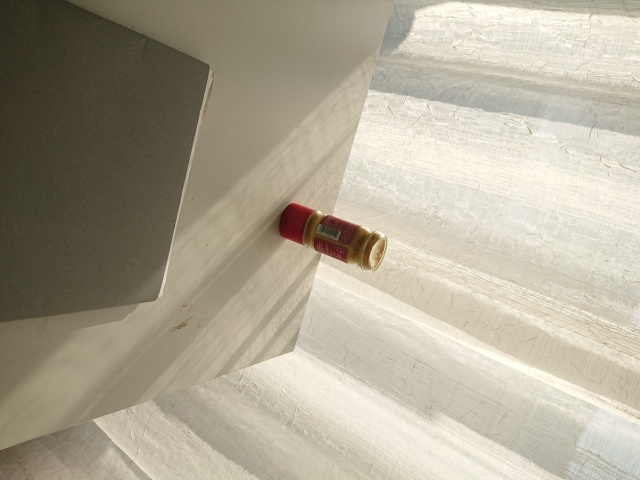Kotanyi Curry Spices Mix 70g: (277, 200, 389, 276)
